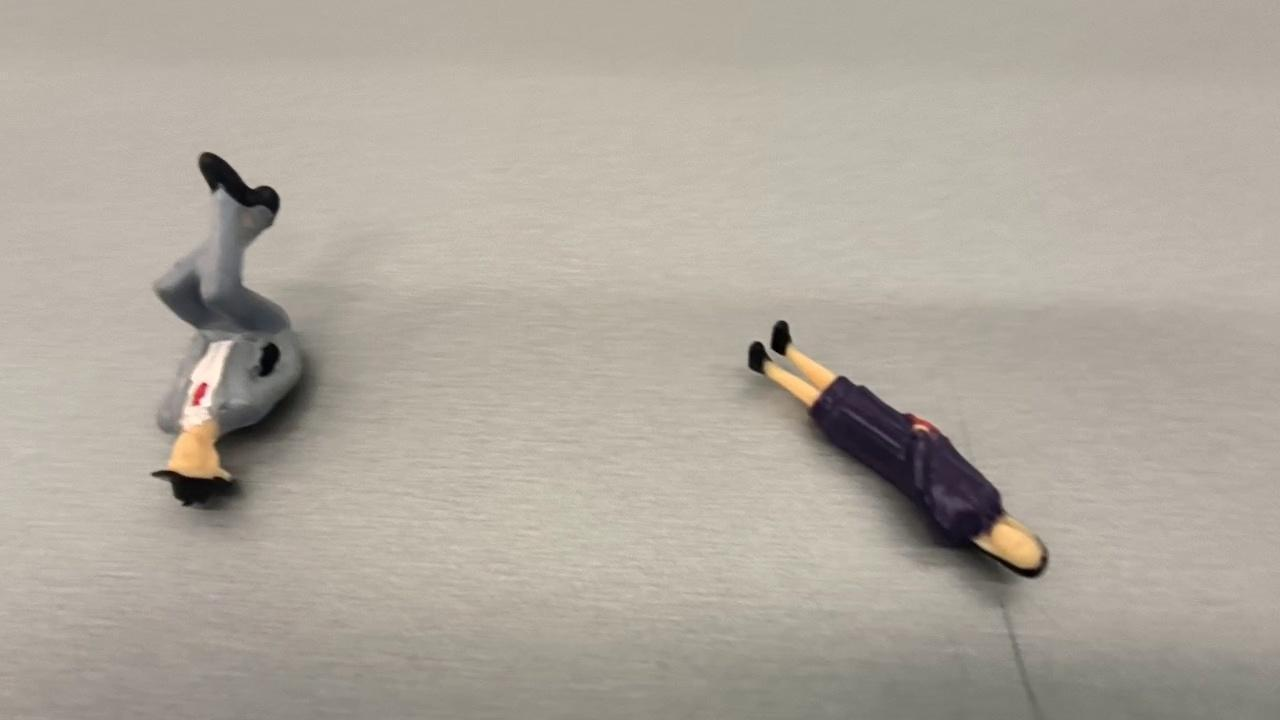human: (747, 319, 1050, 579), (148, 149, 306, 505)
